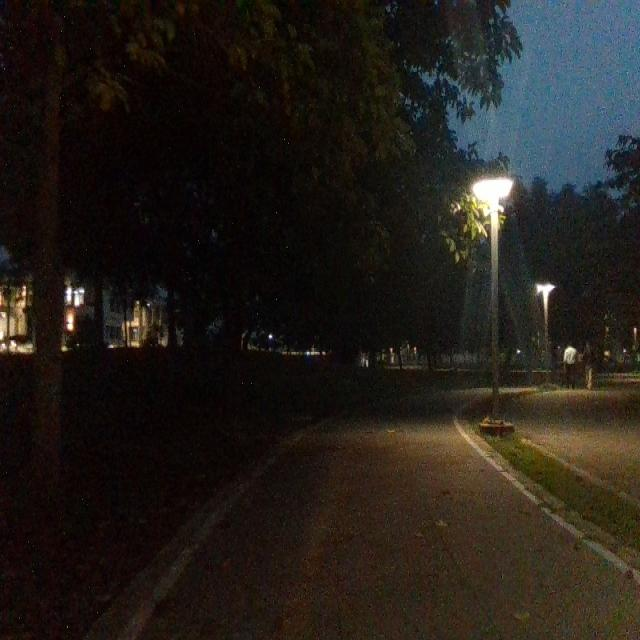lane: (137, 387, 640, 638)
